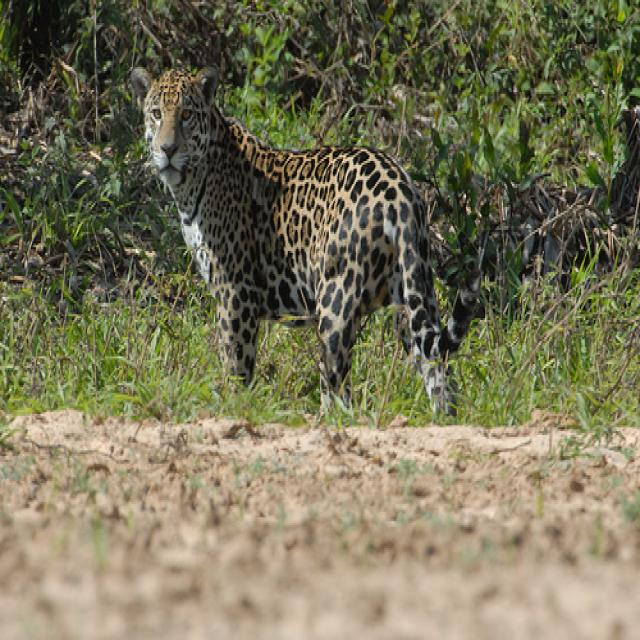Leopard: (124, 56, 460, 420)
